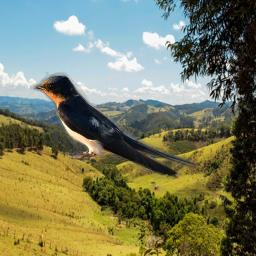Swallow: (30, 70, 200, 179)
